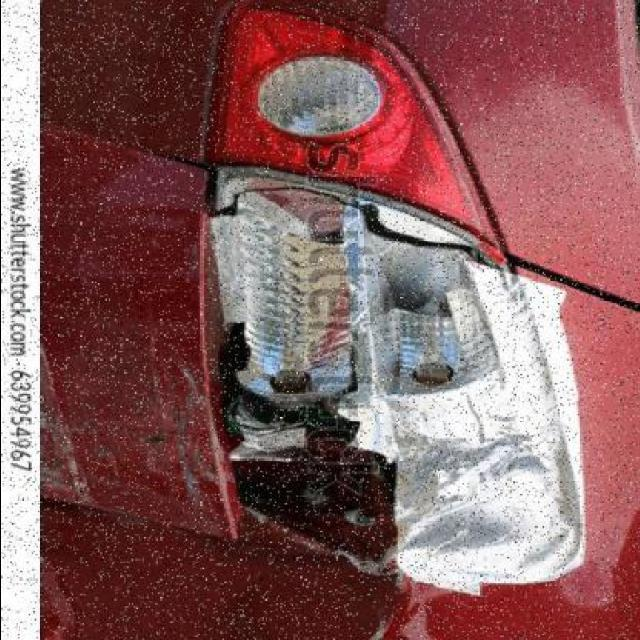Taillight-Damage: (152, 172, 605, 606)
rear-bumper-dent: (36, 0, 273, 544)
